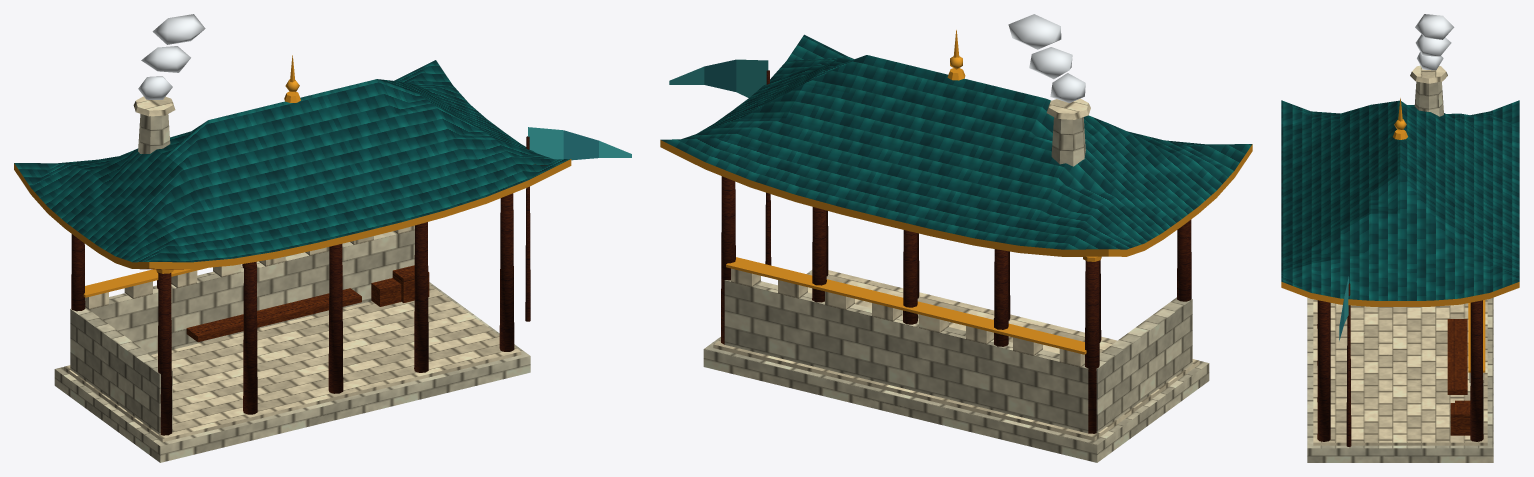
The model's file is shelter_hall.glb.
3 views of the same model, side by side, from view 1: azimuth 30°, elevation 25°; view 2: azimuth 150°, elevation 25°; view 3: azimuth 270°, elevation 25° (orthographic). The views are drawn at different scales.
Visible parts, largest first — view 1: shelter_hall; view 2: shelter_hall; view 3: shelter_hall.
Part boxes in pixels (bbox=[...]): shelter_hall: bbox=[14, 14, 631, 462]; shelter_hall: bbox=[660, 14, 1252, 462]; shelter_hall: bbox=[1281, 14, 1519, 462].
Bounding box in the file's own units: 11 × 7.53 × 5.
Materials: 7 (3 with a texture image).
